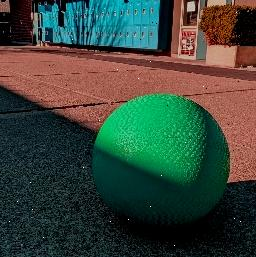algae: (90, 94, 229, 235)
